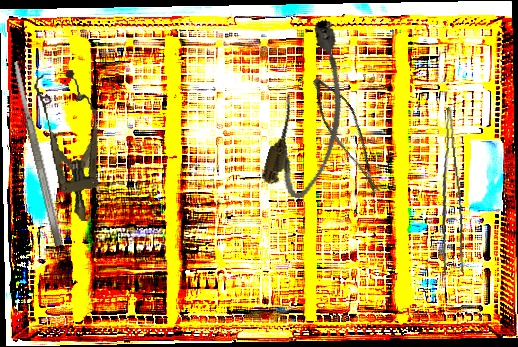Cannula: (258, 15, 367, 204)
Micro Scissor: (294, 72, 406, 198)
Spatula Surgical: (10, 60, 65, 247)
Speculum: (29, 67, 114, 226)
Tissue Forceps: (427, 107, 469, 275)
